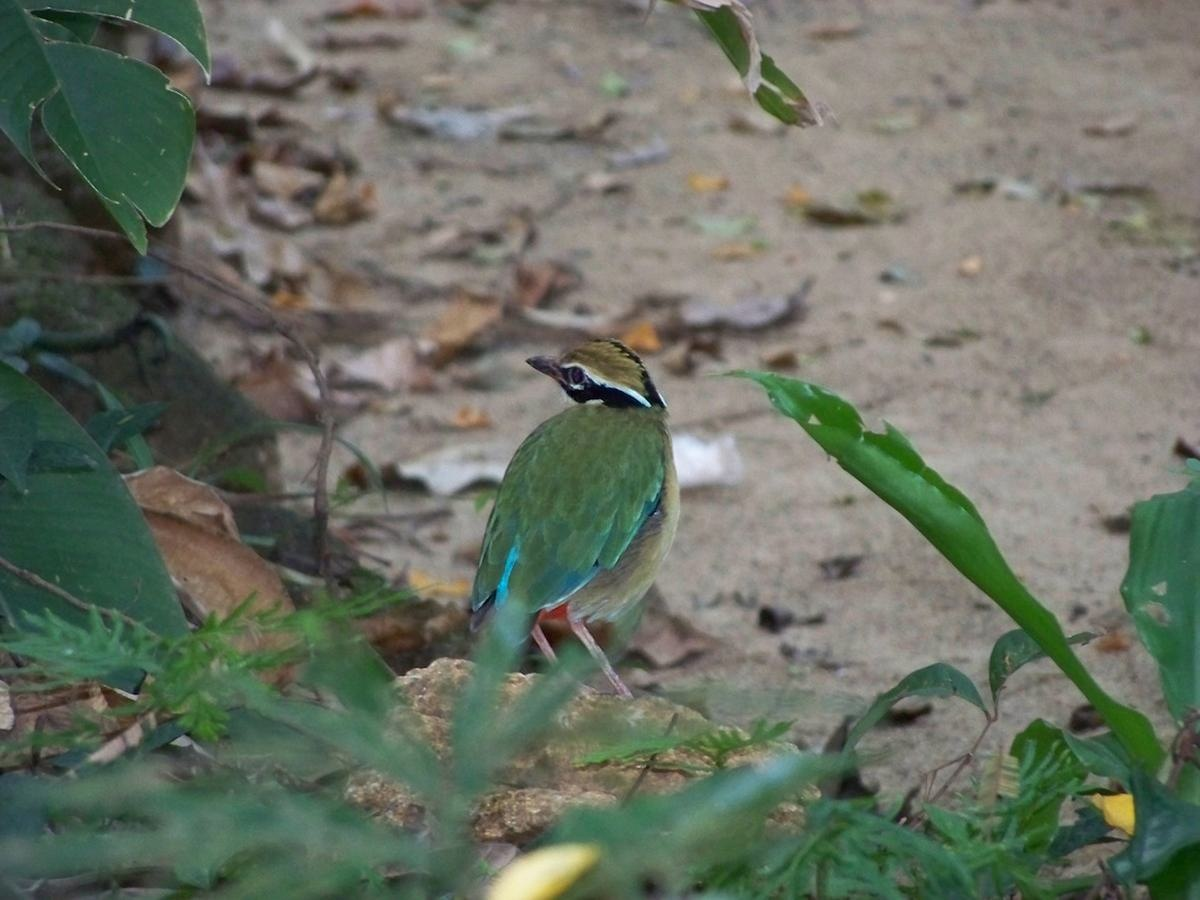pitta: (414, 300, 690, 736)
